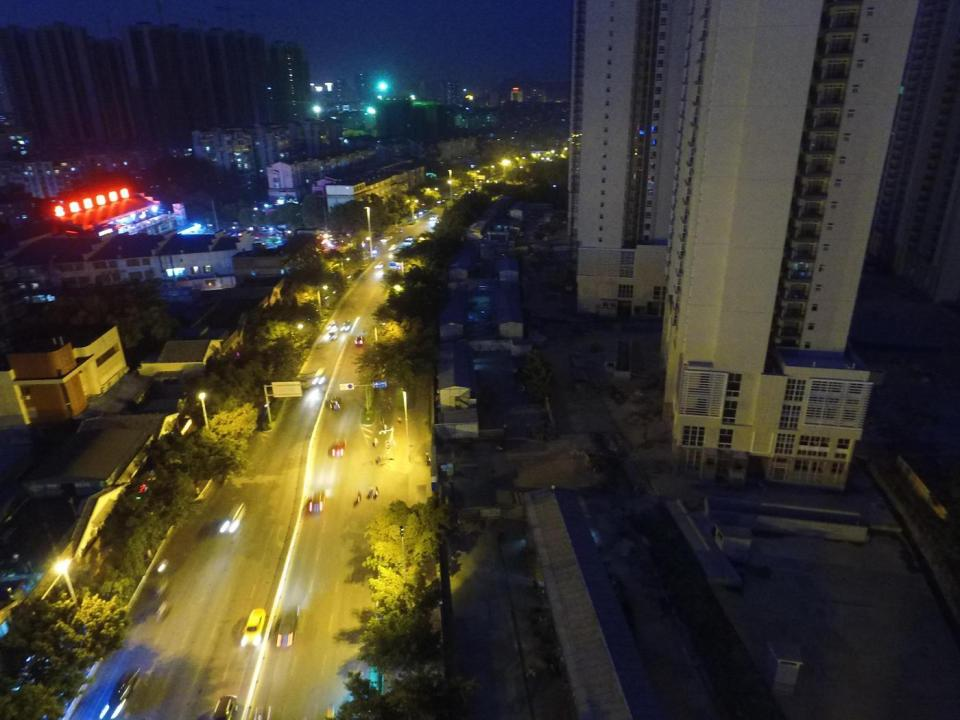car: (106, 672, 141, 706), (275, 606, 300, 649), (241, 608, 266, 647), (221, 501, 244, 533), (306, 490, 326, 513), (332, 439, 347, 457), (329, 397, 342, 410), (341, 320, 352, 331), (354, 336, 365, 346), (327, 320, 337, 330)
van: (312, 367, 326, 384)
